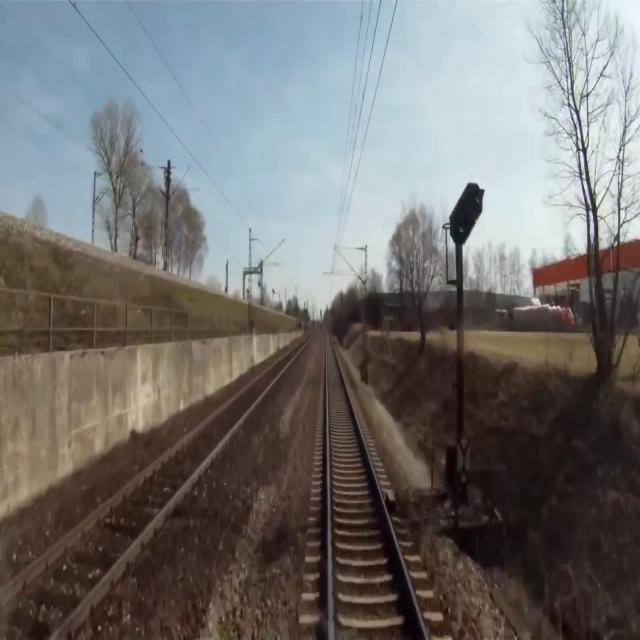rail-track: (0, 342, 303, 639), (327, 334, 424, 639)
